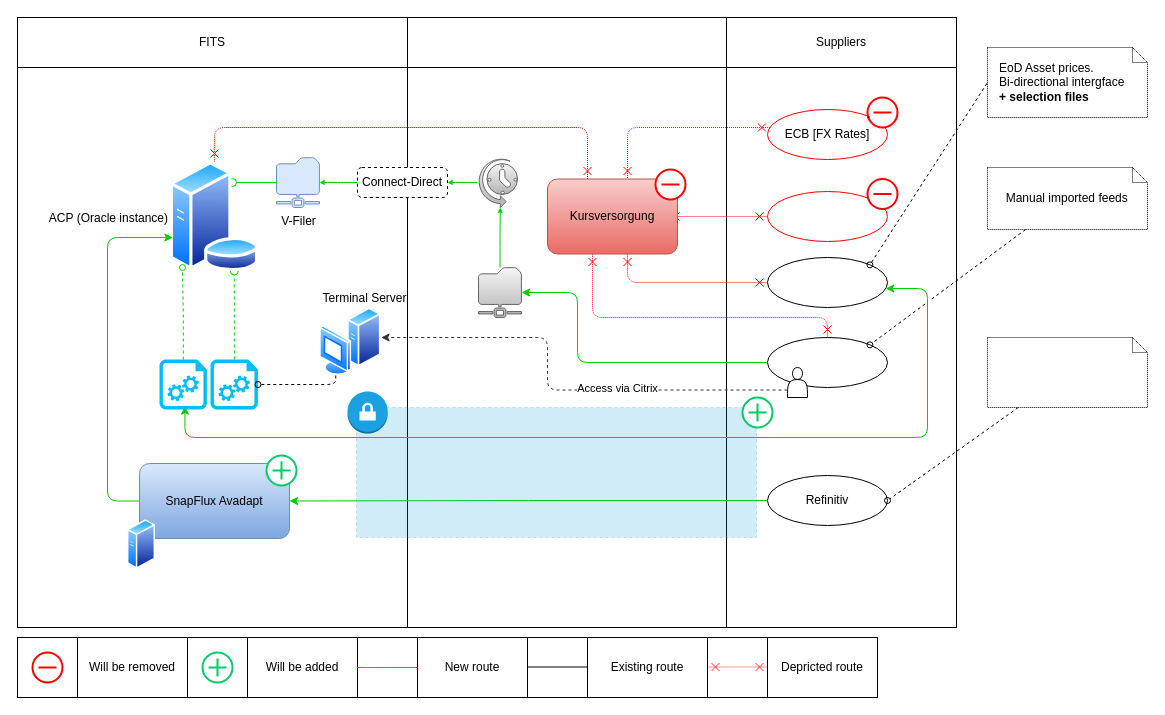
The diagram is 1165 pixels wide and 715 high, and some of its shapes have lost their labels. Each missing label, with the box of its shape:
- FX Rates - Derivative & Swap Rates - FX Rates: (986, 336, 1148, 408)
Berlin Data Center: (406, 16, 728, 68)
Bloomberg: (766, 190, 888, 242)
FactSet/IAD: (766, 256, 888, 308)
Job Scheduler (JS): (476, 156, 518, 208)
Manual Import (CSV): (766, 336, 888, 388)
RHEL new V-Host: (127, 519, 155, 569)
VPN: (356, 406, 756, 538)
